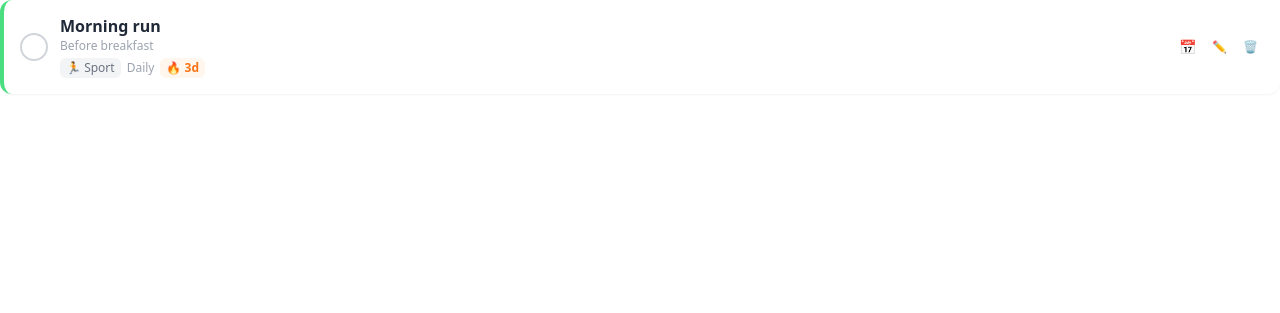
Test: HabitCard › toggles calendar on 📅 click
This screenshot has width=1280, height=313.
expect the text "Mon" is not shown: met
Click the button titled "Toggle calendar": (1188, 47) [1173,31,1202,63]
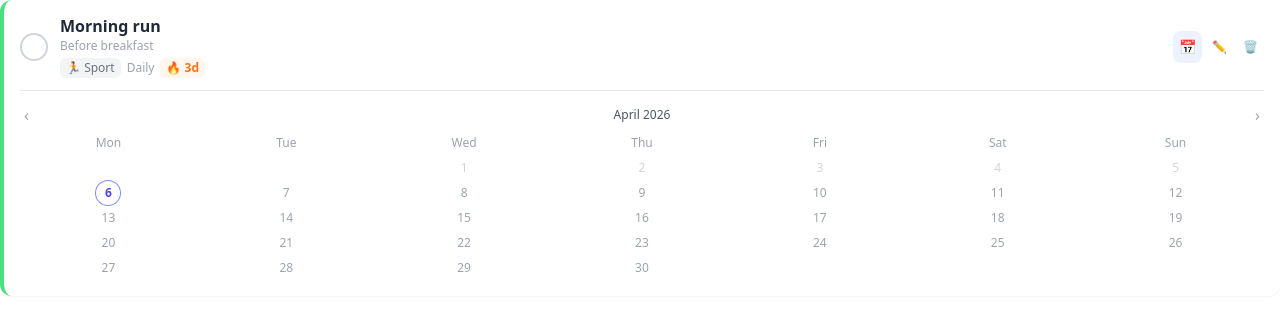
expect the text "Mon" is shown: met, box [96,134,121,151]
